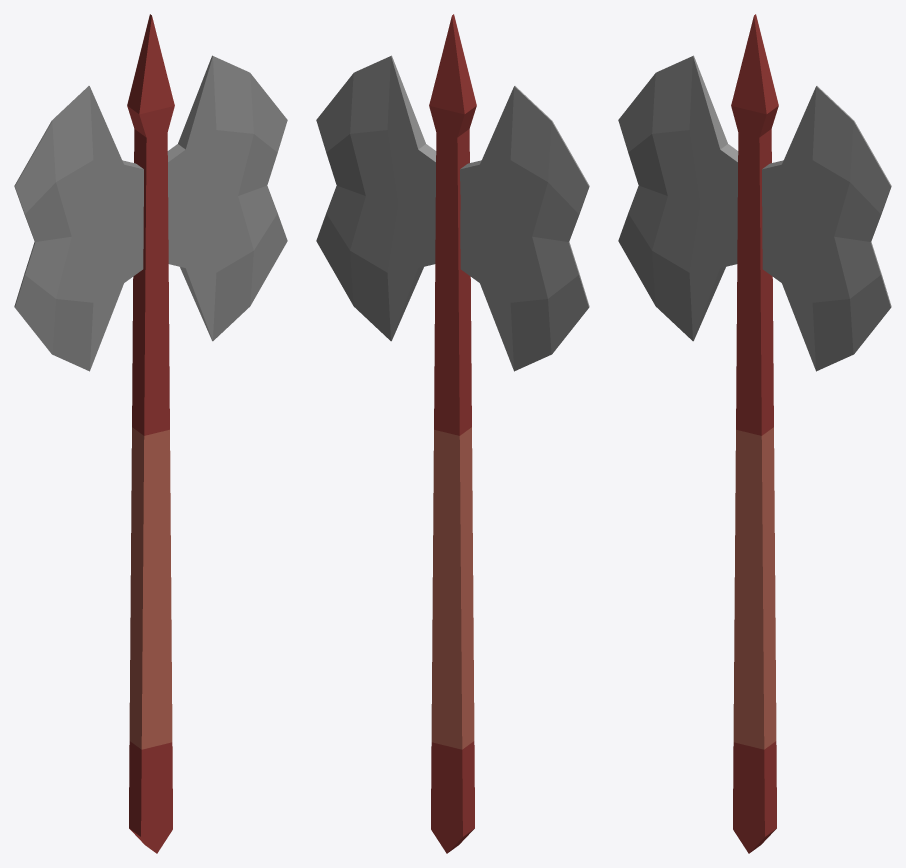
The model's file is Axe_2_Red.fbx.
The picture shows the model from 3 angles, left to right: view 1: azimuth 30°, elevation 25°; view 2: azimuth 150°, elevation 25°; view 3: azimuth 330°, elevation 25°; orthographic projection.
Visible parts, largest first — view 1: Axe_2_Red_Part_1, Axe_2_Red_Part_2, Axe_2_Red_Part_3; view 2: Axe_2_Red_Part_1, Axe_2_Red_Part_2, Axe_2_Red_Part_3; view 3: Axe_2_Red_Part_1, Axe_2_Red_Part_2, Axe_2_Red_Part_3.
Part boxes in pixels (<box>): Axe_2_Red_Part_1: <box>14,55,287,371</box>; Axe_2_Red_Part_2: <box>127,14,174,853</box>; Axe_2_Red_Part_3: <box>129,427,172,749</box>; Axe_2_Red_Part_1: <box>316,55,589,371</box>; Axe_2_Red_Part_2: <box>429,14,476,853</box>; Axe_2_Red_Part_3: <box>431,427,474,749</box>; Axe_2_Red_Part_1: <box>618,55,891,371</box>; Axe_2_Red_Part_2: <box>731,14,778,853</box>; Axe_2_Red_Part_3: <box>733,427,776,749</box>.
Size of the model in its own units: 40.2 by 118 by 3.11.
